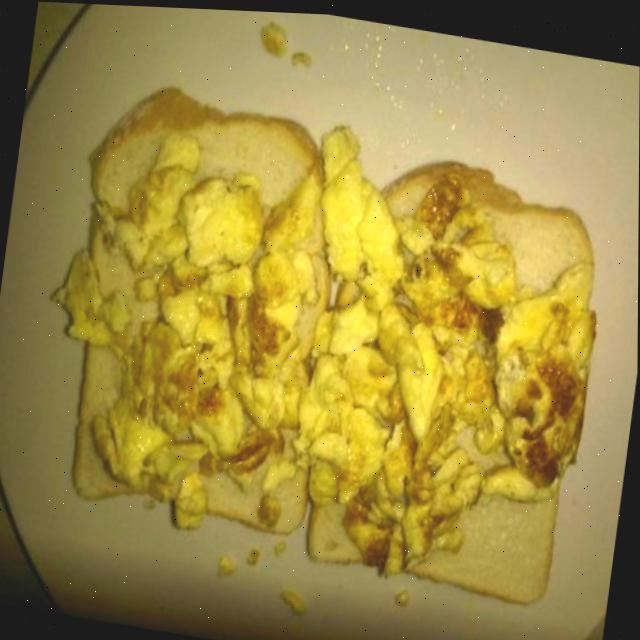鸡蛋料理: (14, 55, 630, 637)
